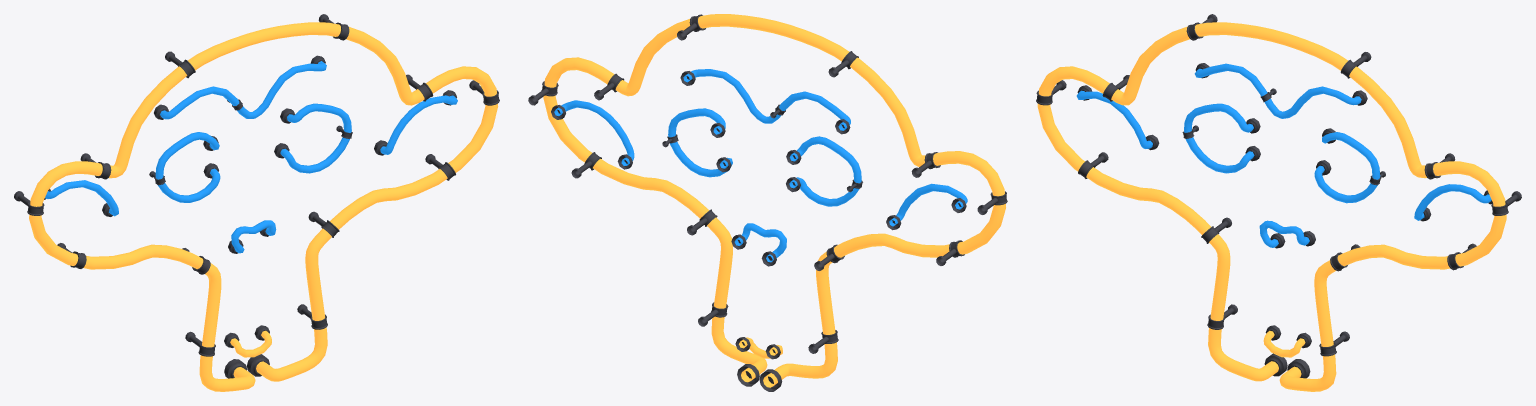
Rendered from Light_Neon_Suzanne.fbx.
The picture shows the model from 3 angles, left to right: view 1: azimuth 30°, elevation 25°; view 2: azimuth 150°, elevation 25°; view 3: azimuth 330°, elevation 25°; orthographic projection.
Parts seen in each view (by area): view 1: Light_Neon_Suzanne.001; view 2: Light_Neon_Suzanne.001; view 3: Light_Neon_Suzanne.001.
Boxes of the visible parts, x1,y1,x2,y2 form: Light_Neon_Suzanne.001: (14,14,499,391); Light_Neon_Suzanne.001: (528,14,1007,391); Light_Neon_Suzanne.001: (1036,14,1521,391).
Size of the model in its own units: 1.28 by 0.932 by 0.1028.
